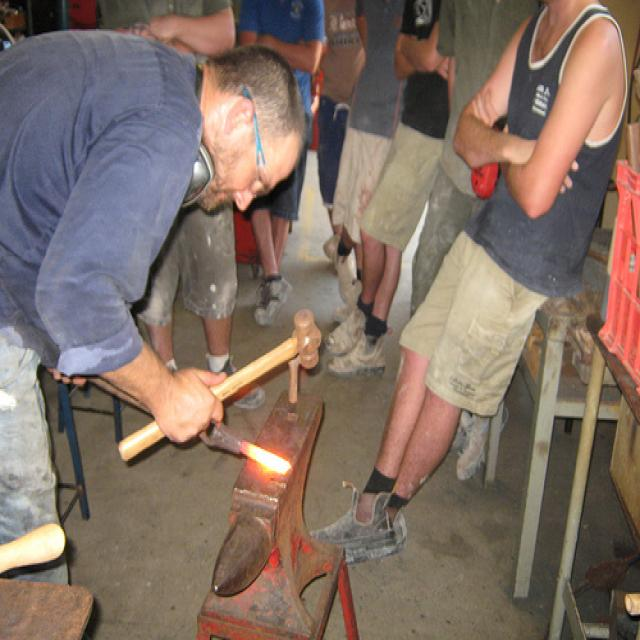hammer: (127, 290, 339, 430)
